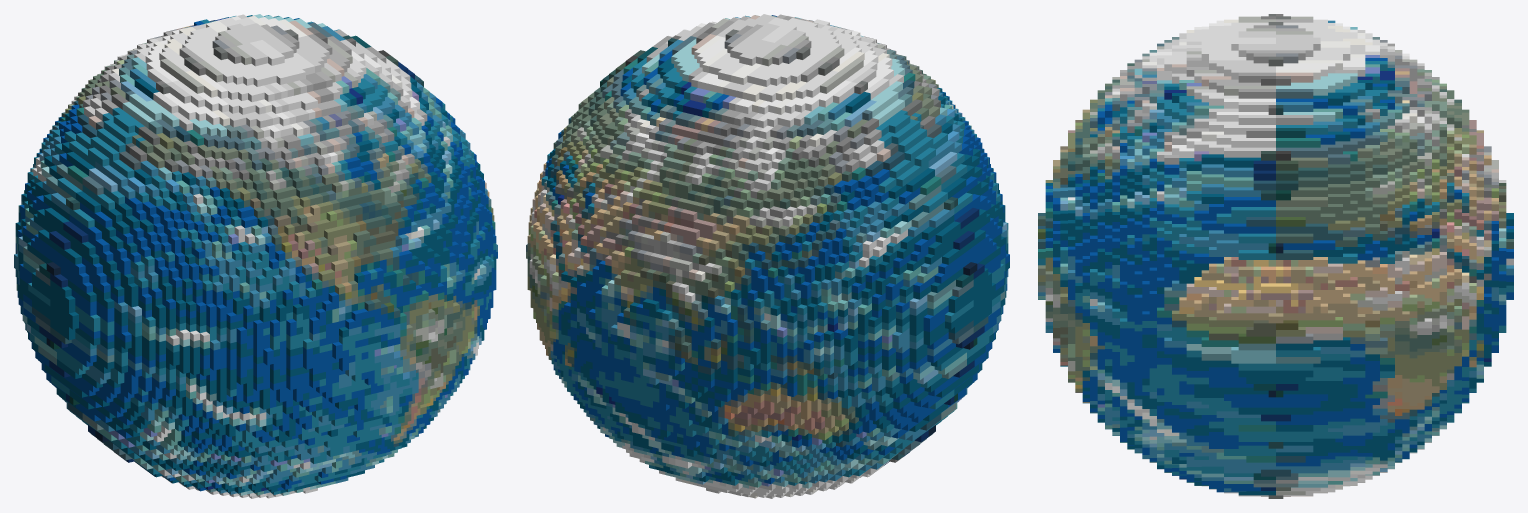
Rendered from earth.glb.
3 renders of one model, left to right at view 1: azimuth 30°, elevation 25°; view 2: azimuth 150°, elevation 25°; view 3: azimuth 270°, elevation 25°, orthographic.
Visible parts, largest first — view 1: Voxel Earth; view 2: Voxel Earth; view 3: Voxel Earth.
Boxes of the visible parts, <box> form: Voxel Earth: <box>14,14,497,498</box>; Voxel Earth: <box>526,14,1009,498</box>; Voxel Earth: <box>1038,14,1513,498</box>.
Bounding box in the file's own units: 6.4 × 6.4 × 6.4.
1 material, 1 textured.
